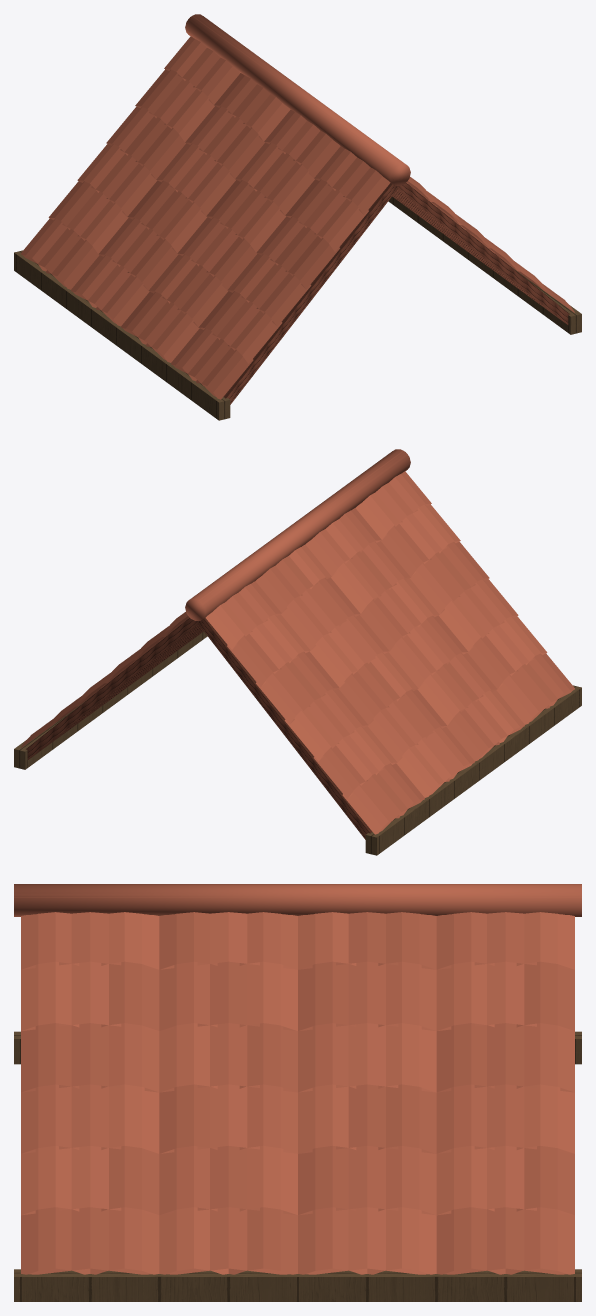
File: env_roof_gable_a_v001.glb
3 renders of one model, top to bottom at view 1: azimuth 30°, elevation 25°; view 2: azimuth 150°, elevation 25°; view 3: azimuth 270°, elevation 25°, orthographic. The views are drawn at different scales.
Visible parts, largest first — view 1: env_roof_gable_a_LOD0_mesh, env_roof_gable_a_LOD1_mesh; view 2: env_roof_gable_a_LOD0_mesh, env_roof_gable_a_LOD1_mesh; view 3: env_roof_gable_a_LOD0_mesh, env_roof_gable_a_LOD1_mesh, env_roof_gable_a_LOD2_mesh.
Part boxes in pixels (bbox=[...]): env_roof_gable_a_LOD0_mesh: bbox=[15, 14, 576, 418]; env_roof_gable_a_LOD1_mesh: bbox=[14, 16, 581, 420]; env_roof_gable_a_LOD0_mesh: bbox=[15, 449, 580, 853]; env_roof_gable_a_LOD1_mesh: bbox=[14, 451, 581, 855]; env_roof_gable_a_LOD0_mesh: bbox=[14, 884, 581, 1299]; env_roof_gable_a_LOD1_mesh: bbox=[14, 893, 581, 1301]; env_roof_gable_a_LOD2_mesh: bbox=[14, 884, 581, 914].
Size of the model in its own units: 4.19 by 2.34 by 4.1.
Materials: 5 (2 with a texture image).
